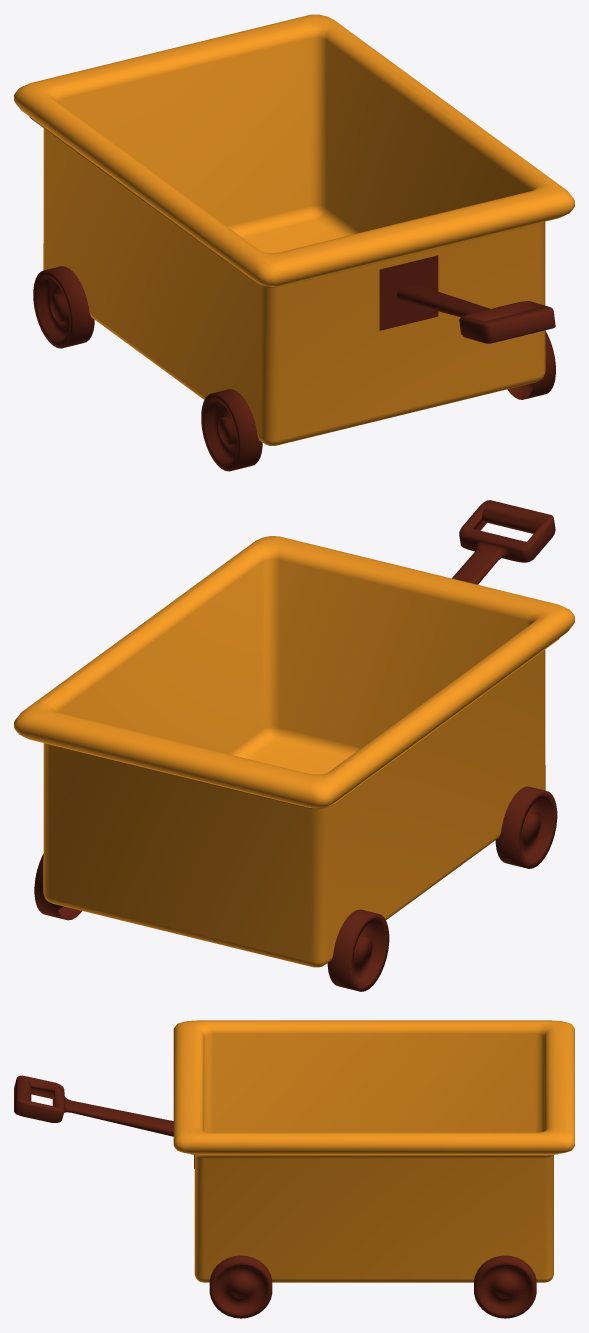
Rendered from oyuncakKutu.fbx.
The picture shows the model from 3 angles, top to bottom: view 1: azimuth 30°, elevation 25°; view 2: azimuth 150°, elevation 25°; view 3: azimuth 270°, elevation 25°; orthographic projection. The views are drawn at different scales.
Visible parts, largest first — view 1: o.kutu; view 2: o.kutu; view 3: o.kutu.
Part boxes in pixels (x1,y1,x2,y2): o.kutu: [14, 14, 574, 471]; o.kutu: [14, 500, 574, 991]; o.kutu: [14, 1020, 574, 1318].
Size of the model in its own units: 96.4 by 66.95 by 188.
